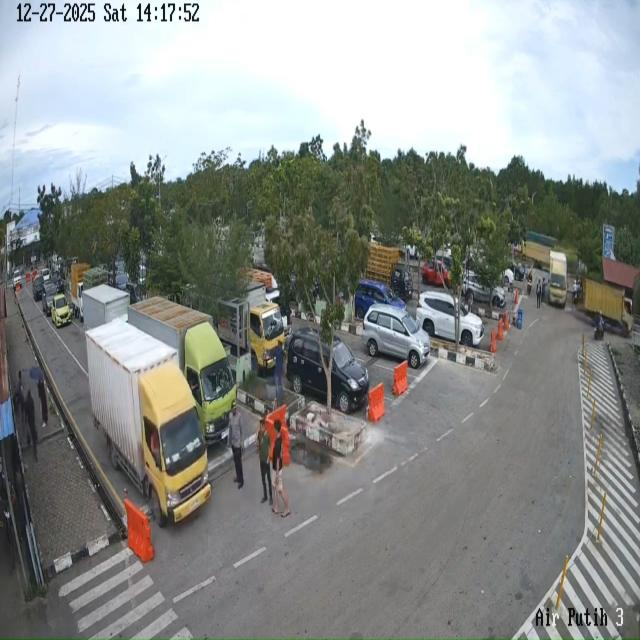Golongan IVA: (286, 327, 370, 413), (362, 305, 430, 369), (416, 291, 484, 347), (354, 279, 406, 320), (462, 271, 506, 308), (51, 294, 72, 328), (42, 282, 59, 315), (32, 274, 45, 301)
Golongan VB: (86, 319, 210, 526), (128, 297, 237, 444), (217, 281, 284, 371), (582, 277, 634, 336), (548, 250, 568, 309)
